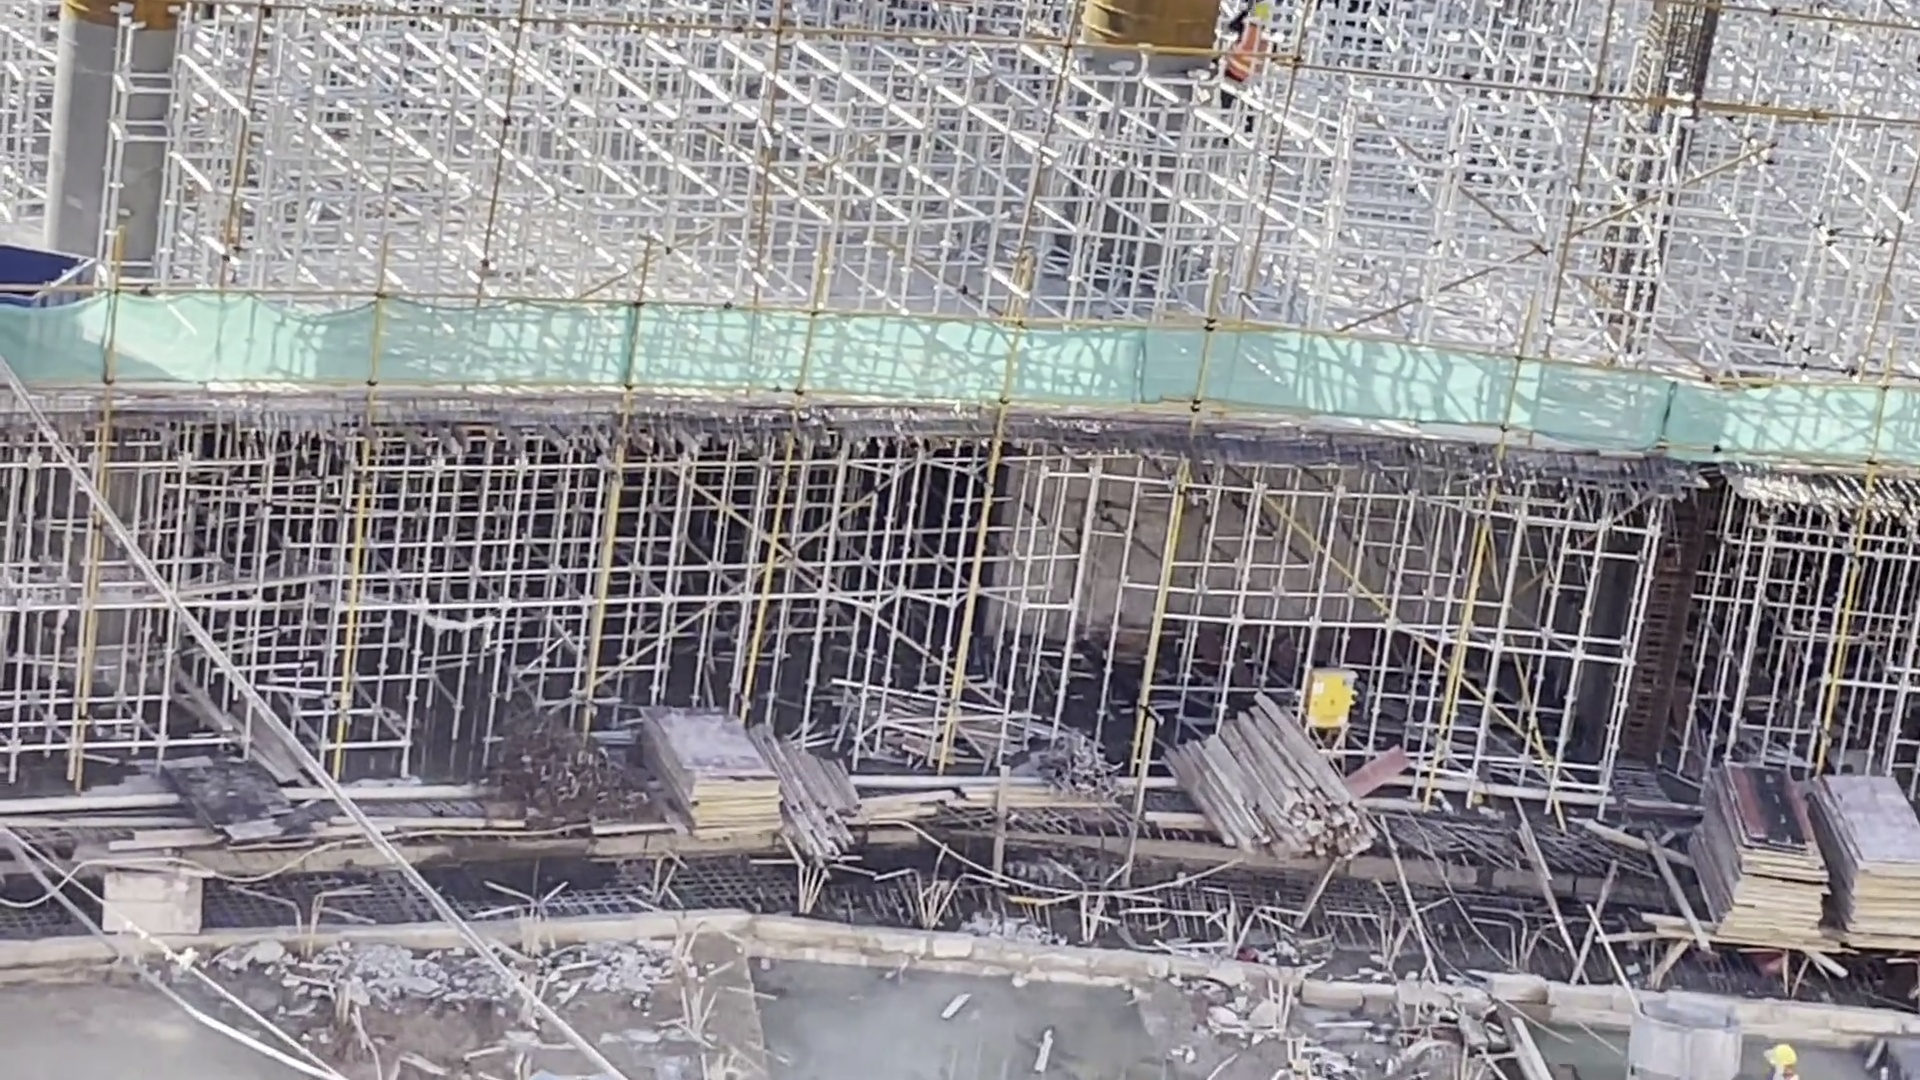board: (1691, 759, 1827, 954), (1803, 765, 1920, 958), (641, 704, 785, 848)
ebox: (1299, 667, 1352, 757)
helmet: (1239, 1, 1275, 32), (1762, 1045, 1797, 1065)
hopper: (1623, 995, 1746, 1080), (1, 234, 92, 310)
person: (1218, 1, 1273, 139), (1758, 1039, 1806, 1080)
vest: (1229, 25, 1270, 93)
wood: (1155, 692, 1360, 867)
